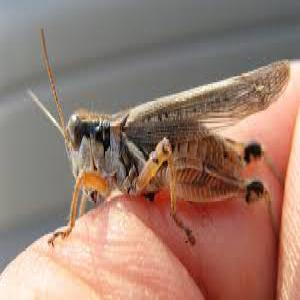locust: (47, 58, 296, 219)
